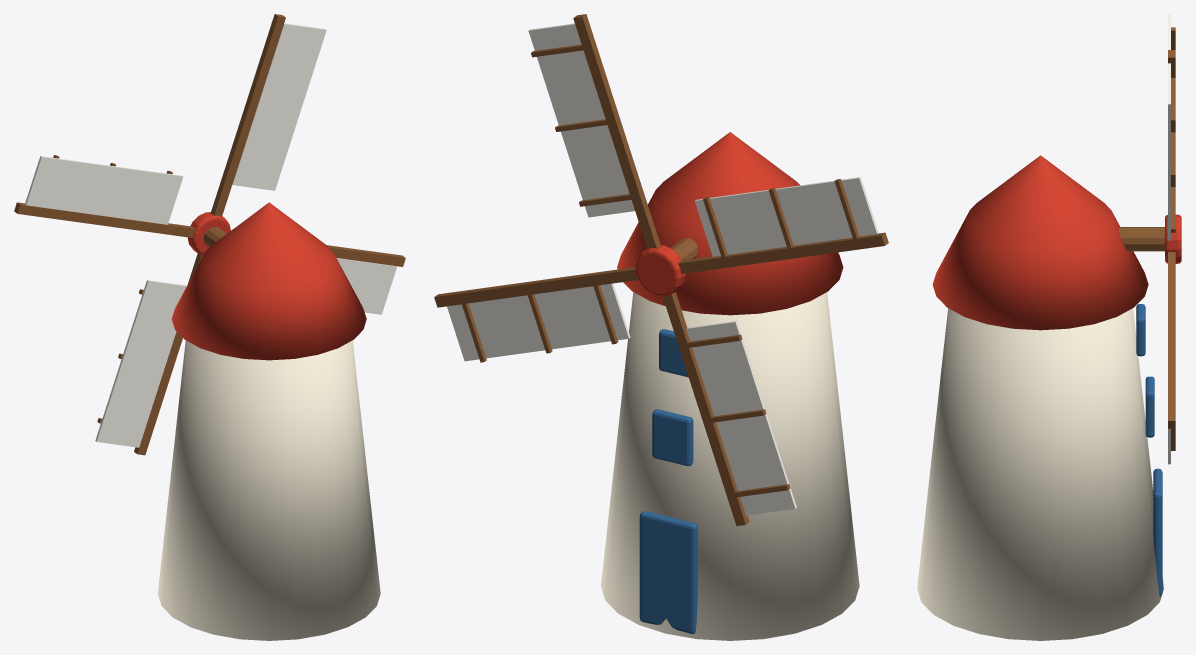
Rendered from windmill.glb.
3 views of the same model, side by side, from view 1: azimuth 30°, elevation 25°; view 2: azimuth 150°, elevation 25°; view 3: azimuth 270°, elevation 25° (orthographic). The views are drawn at different scales.
Parts seen in each view (by area): view 1: windmill, Sails; view 2: windmill, Sails; view 3: windmill, Sails.
Boxes of the visible parts, bbox=[...] form: windmill: bbox=[157, 202, 380, 640]; Sails: bbox=[14, 14, 405, 455]; windmill: bbox=[601, 132, 859, 640]; Sails: bbox=[434, 14, 888, 526]; windmill: bbox=[917, 155, 1164, 640]; Sails: bbox=[1165, 14, 1181, 464].
Size of the model in its own units: 6.44 by 8.22 by 3.43.
